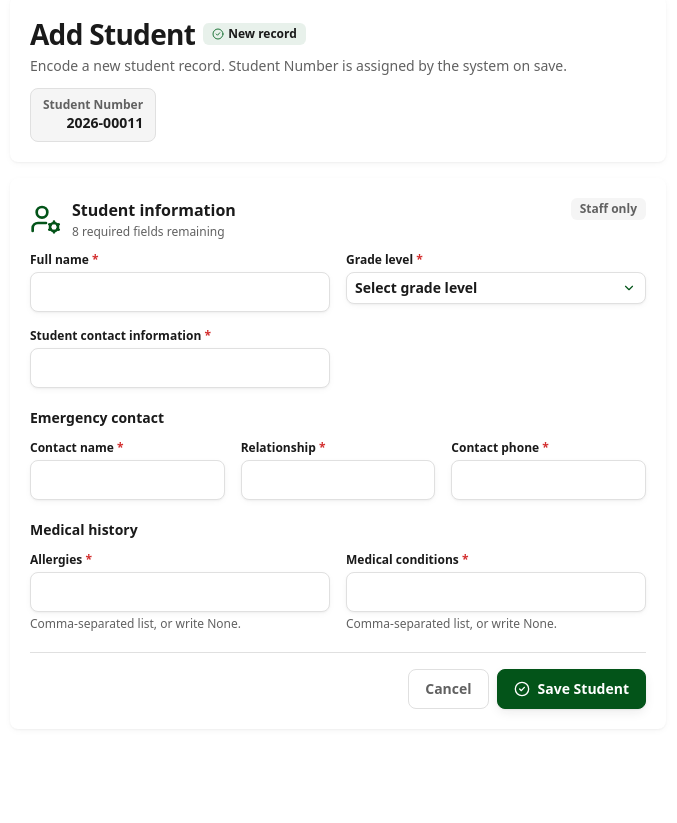
Test: Student Form › validates required fields inline
Expected: the heading "Add Student" is shown, [30, 16, 195, 52]
Click the button "Save Student" at (571,689), box [496, 669, 646, 709]
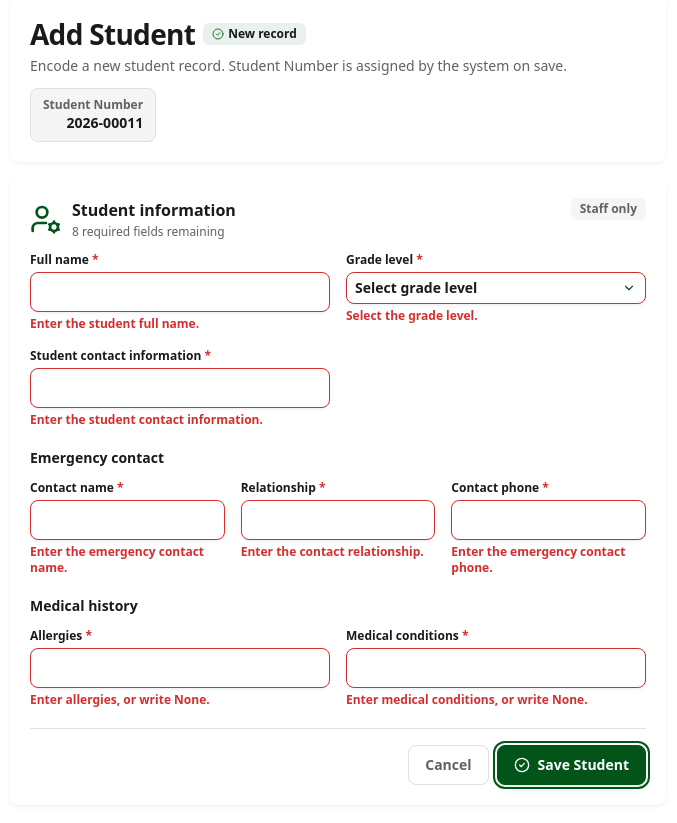
Result: the text "Enter the student full name." is shown at [30, 315, 199, 332]
Result: the text "Select the grade level." is shown at [346, 307, 478, 324]
Result: the text "Enter allergies, or write None." is shown at [30, 691, 210, 708]
